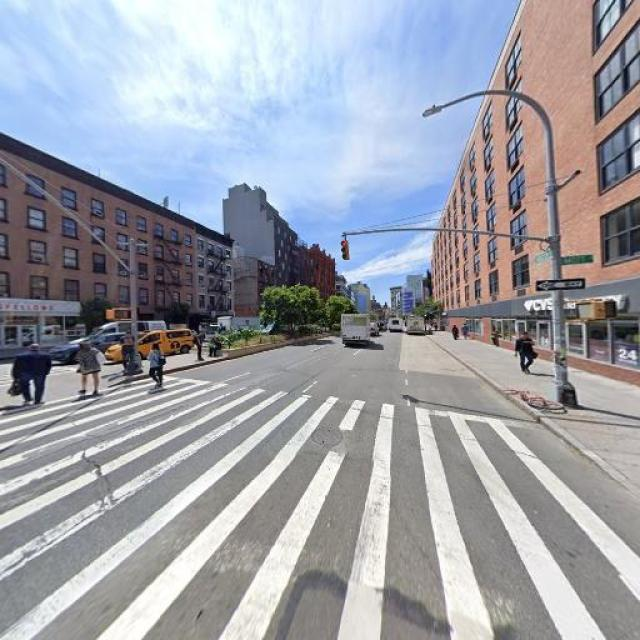Building: (435, 1, 640, 383), (1, 133, 193, 353)
